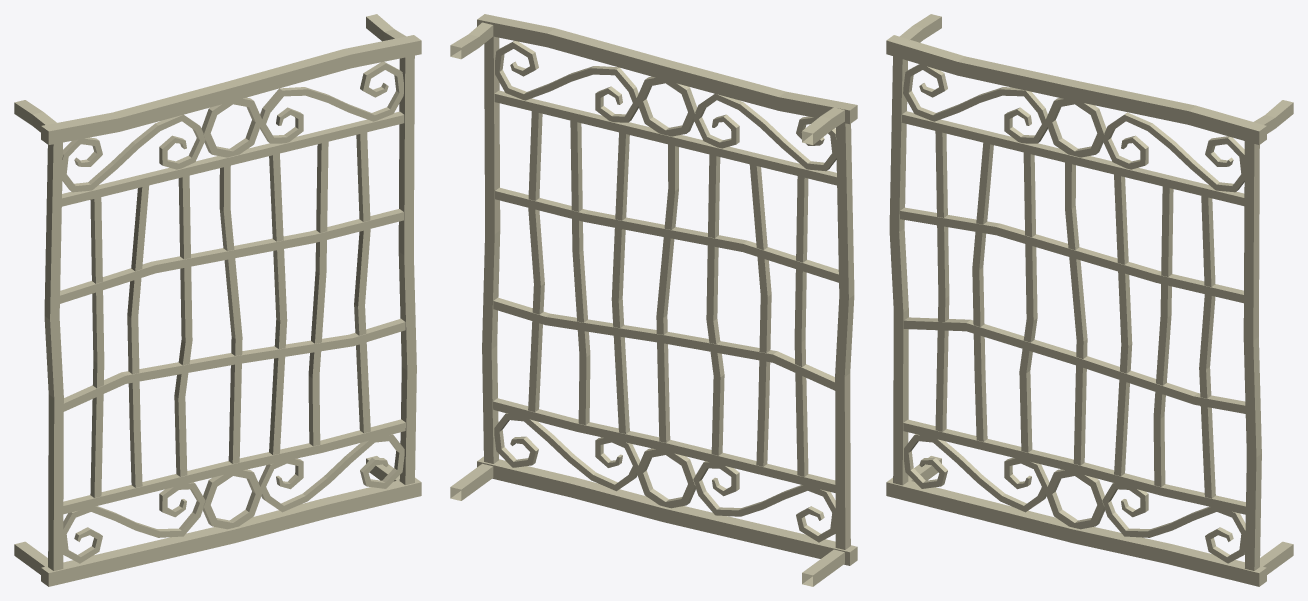
The model's file is WindowsBare.fbx.
3 views of the same model, side by side, from view 1: azimuth 30°, elevation 25°; view 2: azimuth 150°, elevation 25°; view 3: azimuth 330°, elevation 25° (orthographic).
Visible parts, largest first — view 1: Lattice; view 2: Lattice; view 3: Lattice.
Boxes of the visible parts, left/top/right/bottom form: Lattice: left=14, top=14, right=421, bottom=586; Lattice: left=450, top=14, right=857, bottom=586; Lattice: left=886, top=14, right=1293, bottom=586.
Size of the model in its own units: 153 by 180 by 27.98.
